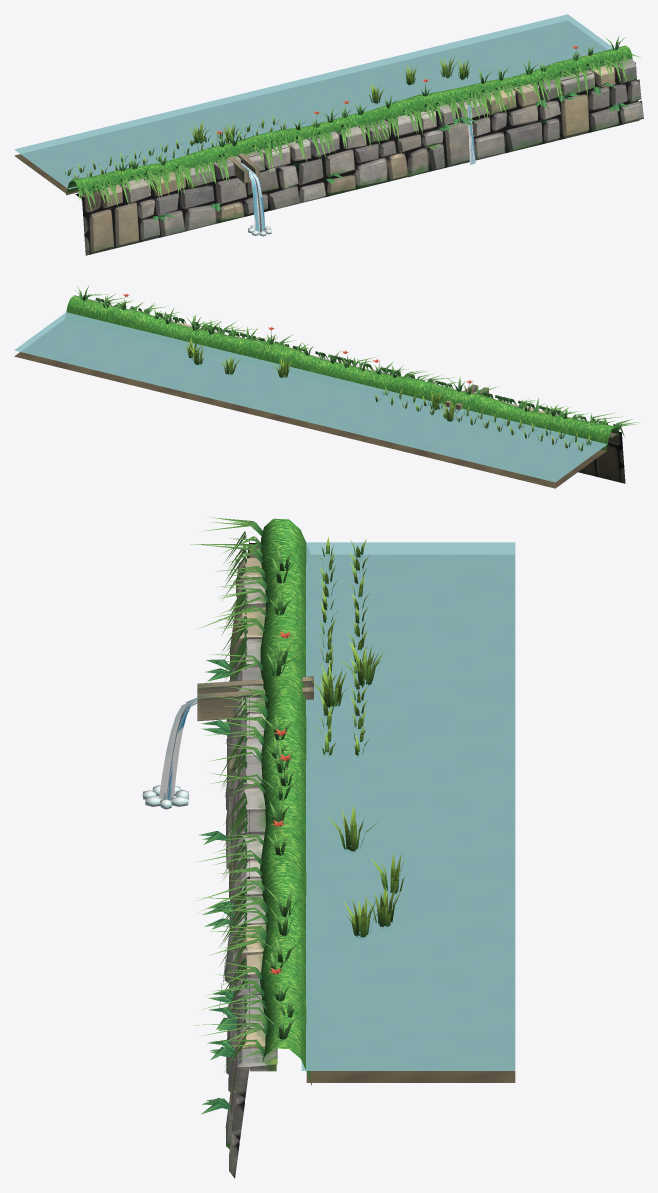
Rendered from terrace_straight_flooded.glb.
3 renders of one model, top to bottom at view 1: azimuth 30°, elevation 25°; view 2: azimuth 150°, elevation 25°; view 3: azimuth 270°, elevation 25°, orthographic. The views are drawn at different scales.
Visible parts, largest first — view 1: terrace_straight_flooded_wall, terrace_straight_flooded_water, terrace_straight_flooded_plants, terrace_straight_flooded_dike, terrace_straight_flooded_spout_fall, terrace_straight_flooded_spout; view 2: terrace_straight_flooded_water, terrace_straight_flooded_dike, terrace_straight_flooded_plants, terrace_straight_flooded_wall; view 3: terrace_straight_flooded_water, terrace_straight_flooded_dike, terrace_straight_flooded_plants, terrace_straight_flooded_wall, terrace_straight_flooded_spout, terrace_straight_flooded_spout_fall.
Boxes of the visible parts, x1,y1,x2,y2 form: terrace_straight_flooded_wall: (75,59,643,255); terrace_straight_flooded_water: (14,14,612,189); terrace_straight_flooded_plants: (63,36,640,221); terrace_straight_flooded_dike: (14,21,632,195); terrace_straight_flooded_spout_fall: (241,163,265,231); terrace_straight_flooded_spout: (215,142,259,183); terrace_straight_flooded_water: (14,312,608,482); terrace_straight_flooded_dike: (14,295,618,488); terrace_straight_flooded_plants: (75,286,639,451); terrace_straight_flooded_wall: (88,299,625,483); terrace_straight_flooded_water: (301,542,515,1070); terrace_straight_flooded_dike: (260,518,515,1085); terrace_straight_flooded_plants: (190,517,407,1114); terrace_straight_flooded_wall: (224,541,277,1178); terrace_straight_flooded_spout: (197,676,313,721); terrace_straight_flooded_spout_fall: (159,697,197,800).
Size of the model in its own units: 12.35 by 1.72 by 3.57.
Materials: 6 (5 with a texture image).
